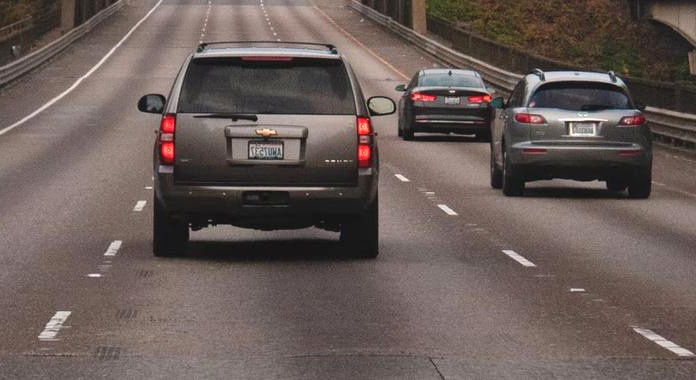car: (125, 25, 398, 268), (491, 62, 652, 207), (399, 62, 492, 143)
